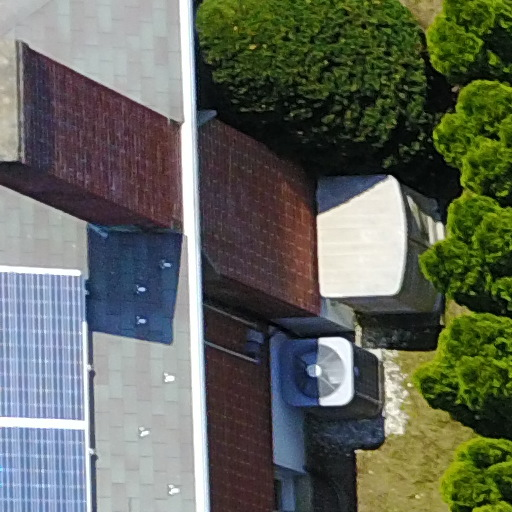air conditioner: (271, 331, 408, 425)
